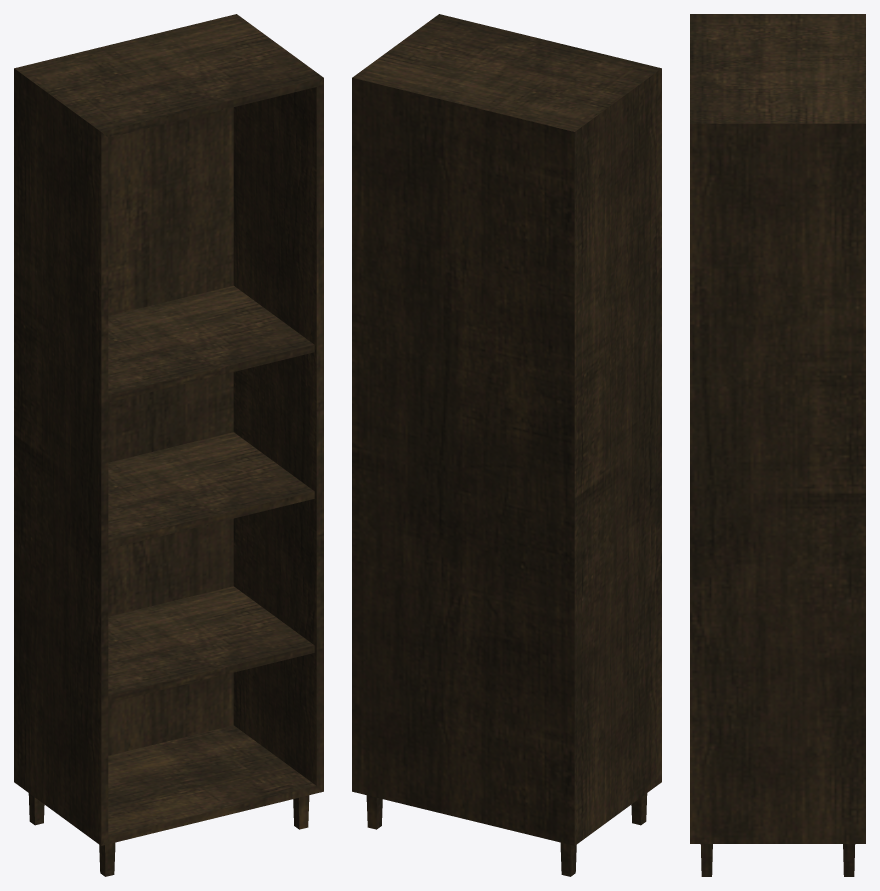
File: shelf_mp_1_3.obj
3 renders of one model, left to right at view 1: azimuth 30°, elevation 25°; view 2: azimuth 150°, elevation 25°; view 3: azimuth 270°, elevation 25°, orthographic.
Parts seen in each view (by area): view 1: shelf_mp_1_3; view 2: shelf_mp_1_3; view 3: shelf_mp_1_3.
Part boxes in pixels (x1,y1,x2,y2): shelf_mp_1_3: (14, 14, 323, 876); shelf_mp_1_3: (352, 14, 661, 876); shelf_mp_1_3: (690, 14, 865, 876).
Size of the model in its own units: 0.62 by 2 by 0.42.
